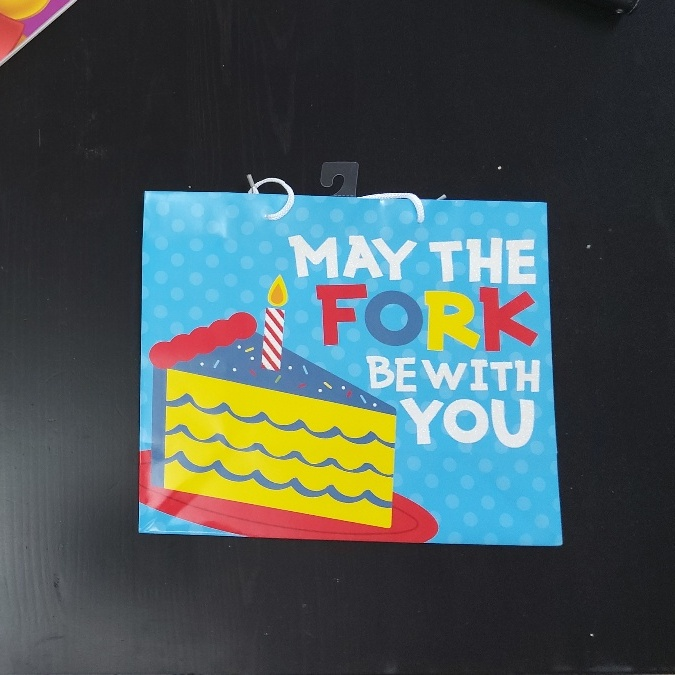paper_bag: (146, 195, 551, 532)
